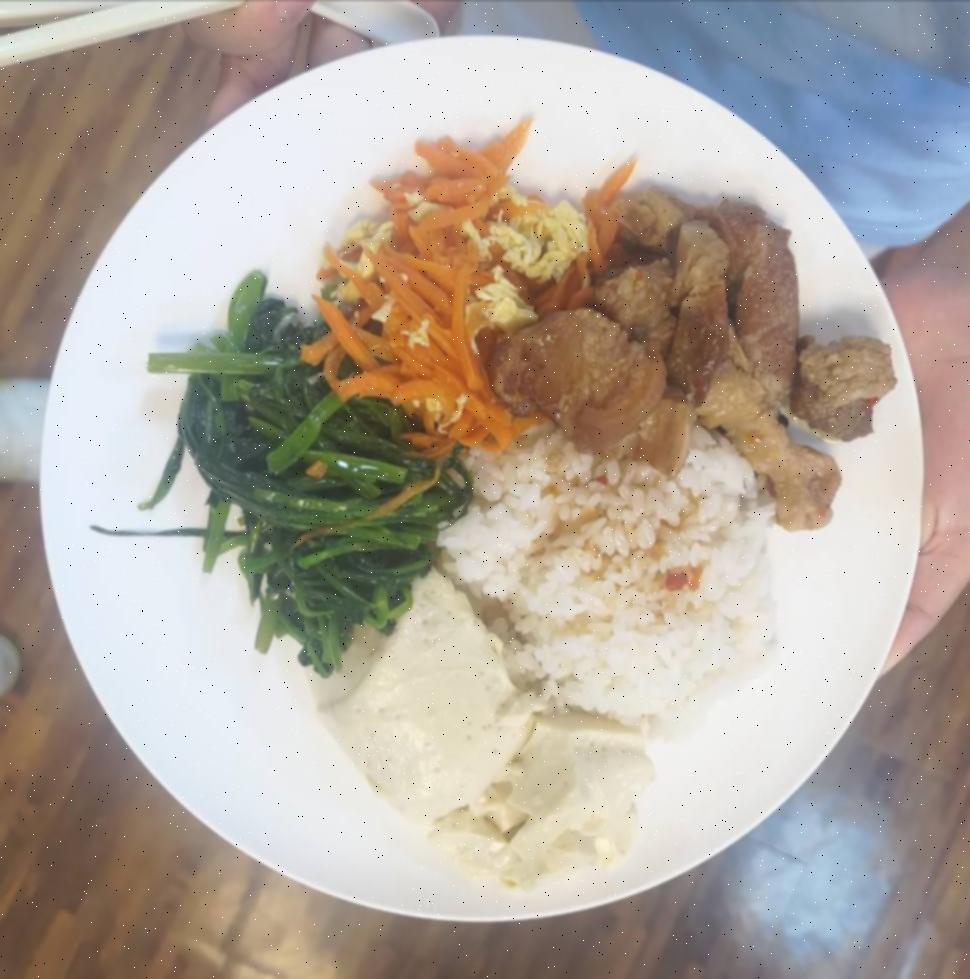braised pork: (487, 161, 884, 524)
plate: (25, 24, 946, 936)
side dish: (162, 292, 448, 664), (314, 572, 643, 888), (316, 129, 583, 448)
white rice: (440, 404, 778, 716)
